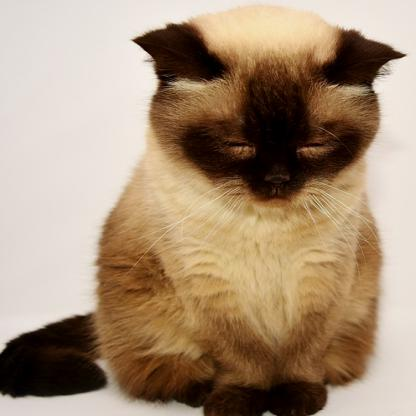cat: (0, 8, 408, 416)
